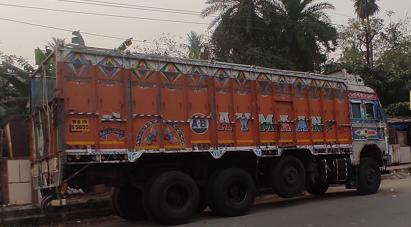Truck: (24, 41, 389, 222)
